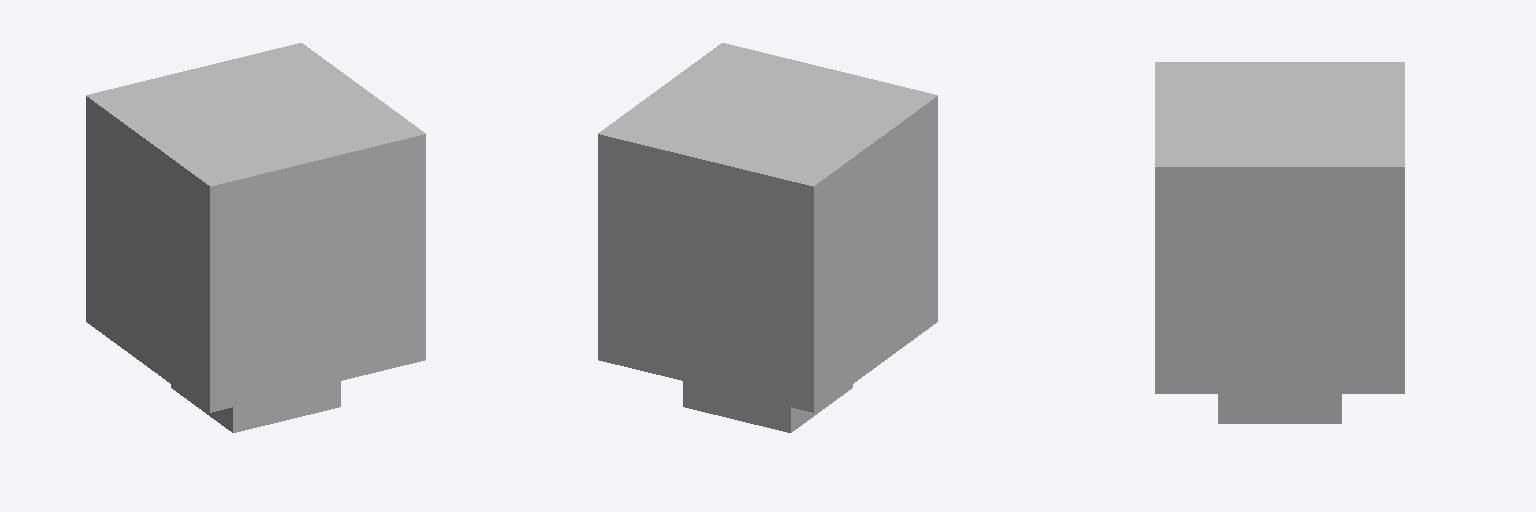
File: tile-shooter.obj
3 renders of one model, left to right at view 1: azimuth 30°, elevation 25°; view 2: azimuth 150°, elevation 25°; view 3: azimuth 270°, elevation 25°, orthographic.
Size of the model in its own units: 16 by 20 by 16.